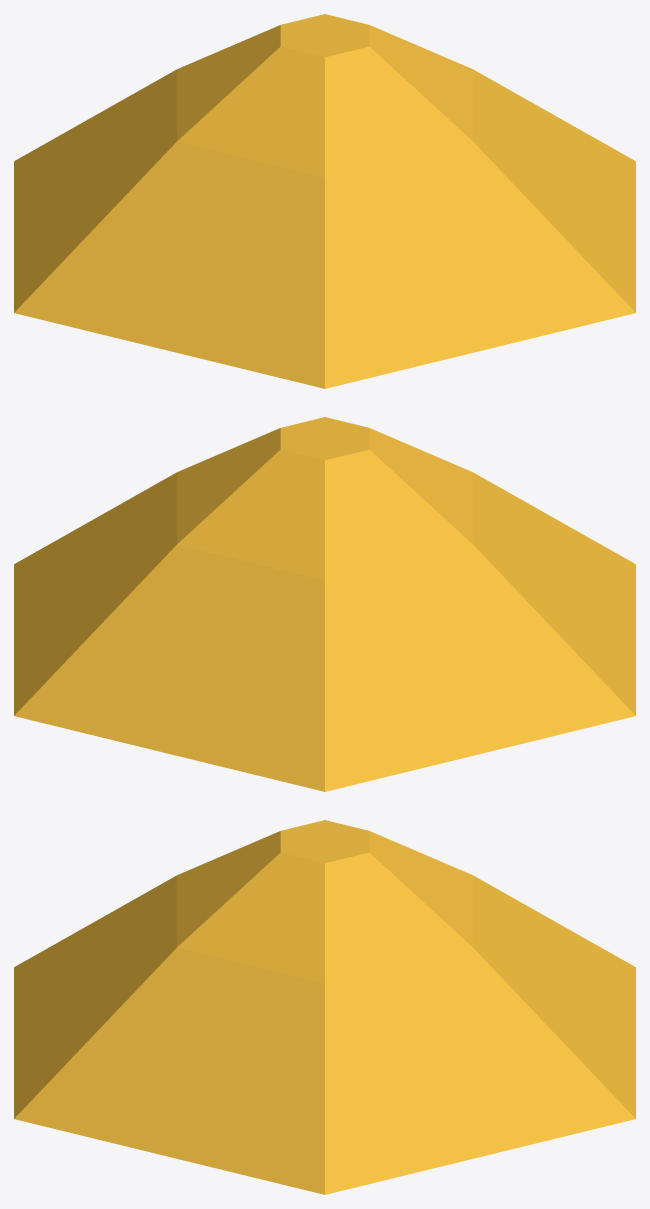
The model's file is SM_Prop_GoldPile_LQ.glb.
The picture shows the model from 3 angles, top to bottom: view 1: azimuth 30°, elevation 25°; view 2: azimuth 150°, elevation 25°; view 3: azimuth 270°, elevation 25°; orthographic projection.
Visible parts, largest first — view 1: SM_Prop_GoldPile_LQ; view 2: SM_Prop_GoldPile_LQ; view 3: SM_Prop_GoldPile_LQ.
Part boxes in pixels (x1,y1,x2,y2): SM_Prop_GoldPile_LQ: (14, 14, 635, 388); SM_Prop_GoldPile_LQ: (14, 417, 635, 791); SM_Prop_GoldPile_LQ: (14, 820, 635, 1194).
Size of the model in its own units: 0.84 by 0.26 by 0.7275.
1 material, 1 textured.
